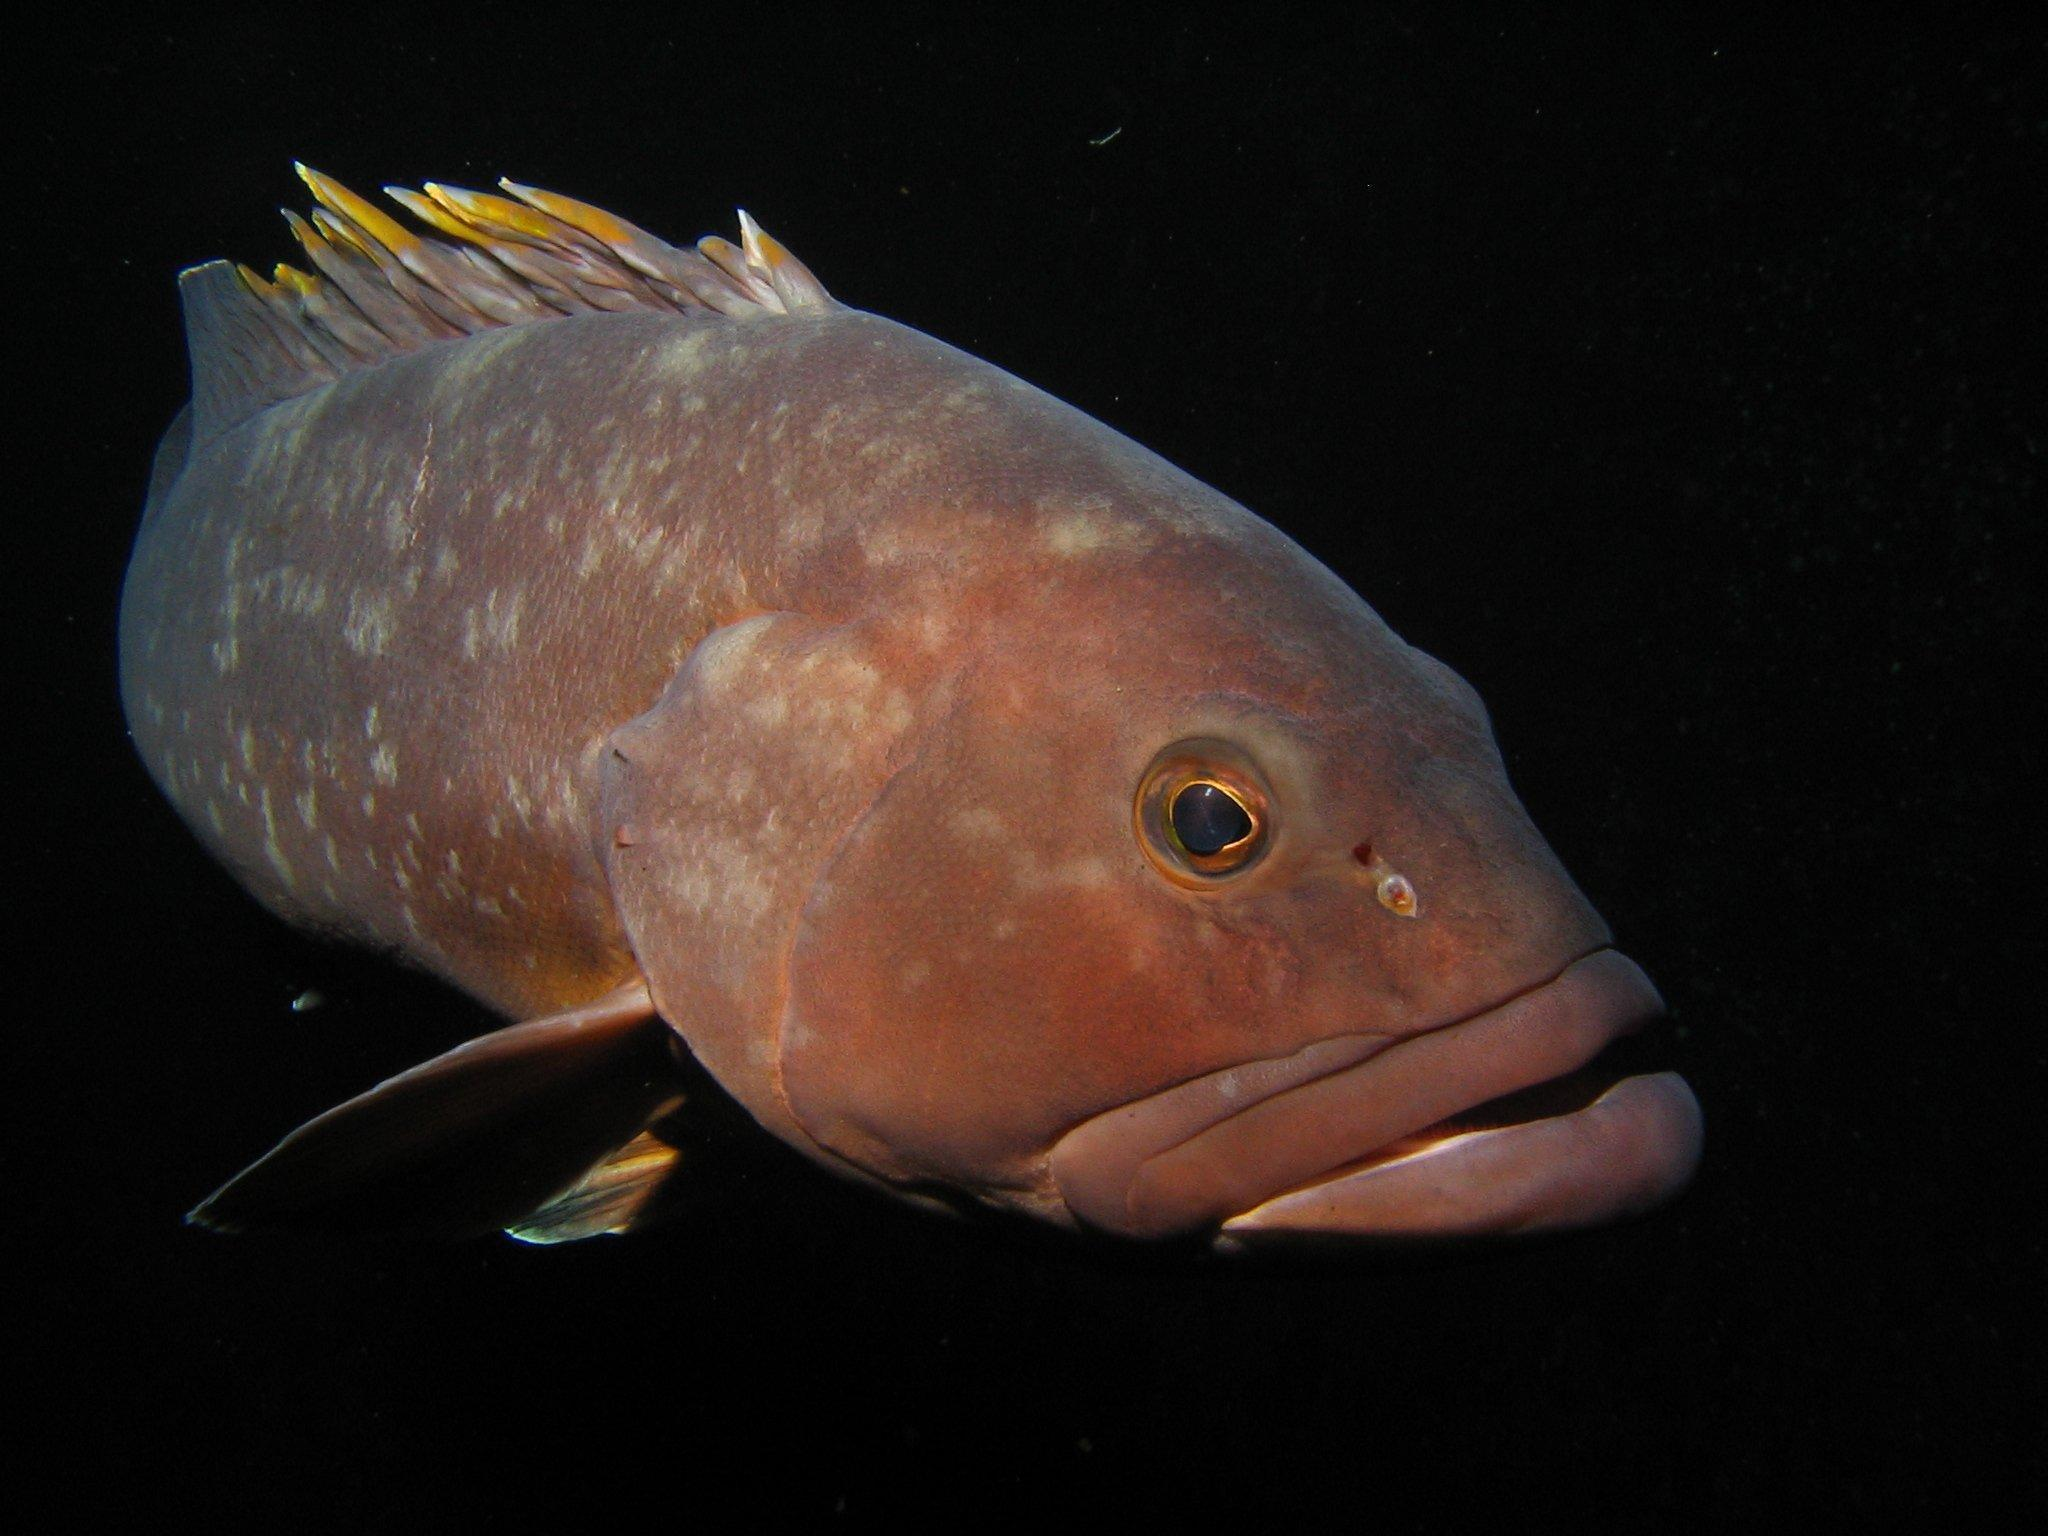Fish: (40, 165, 1816, 1373)
